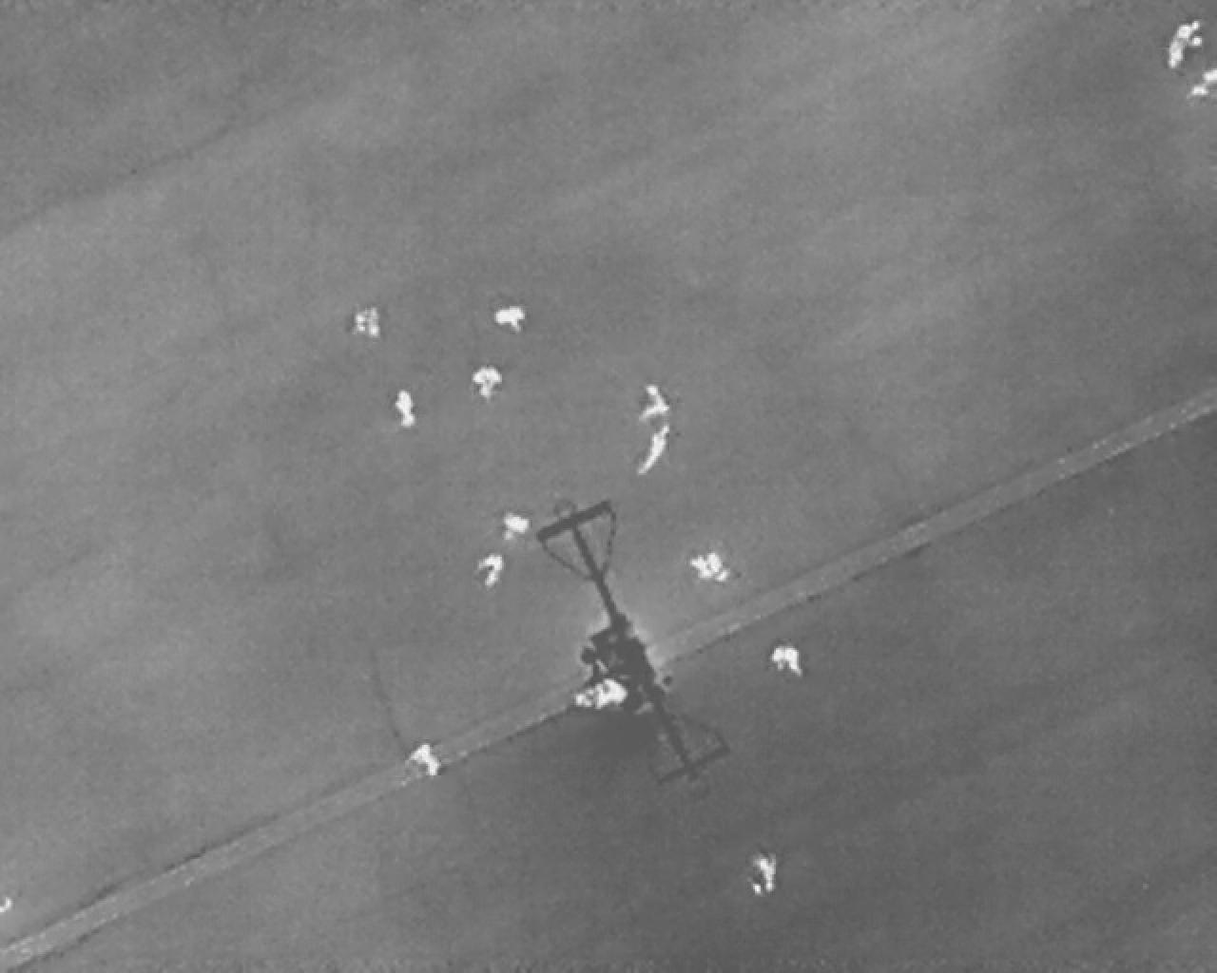person: (1159, 16, 1210, 77), (686, 541, 739, 590), (630, 421, 674, 480), (404, 738, 446, 784), (473, 548, 511, 592), (391, 383, 421, 432), (771, 643, 805, 677), (474, 364, 503, 402), (594, 679, 628, 708), (493, 303, 526, 332), (353, 307, 381, 339), (642, 383, 668, 417), (754, 854, 777, 892), (501, 512, 531, 541), (1189, 67, 1216, 98)
